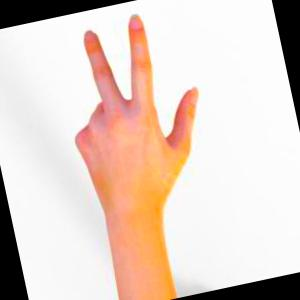scissors: (75, 14, 198, 300)
